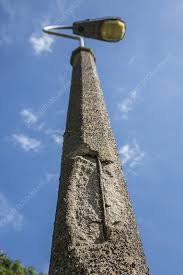light_pole: (50, 19, 149, 275)
